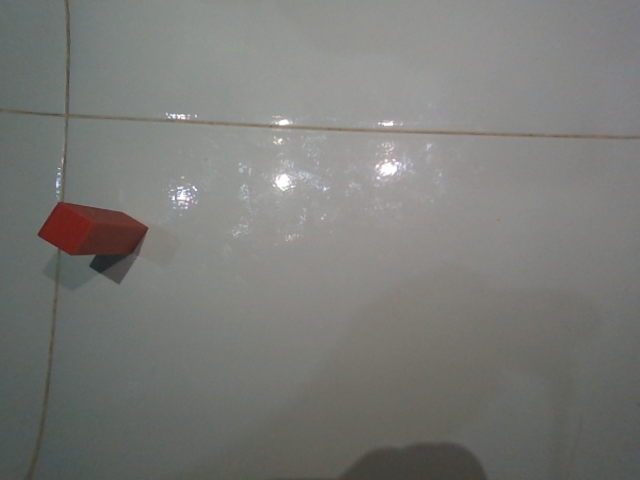Balok-Merah: (43, 201, 147, 255)
